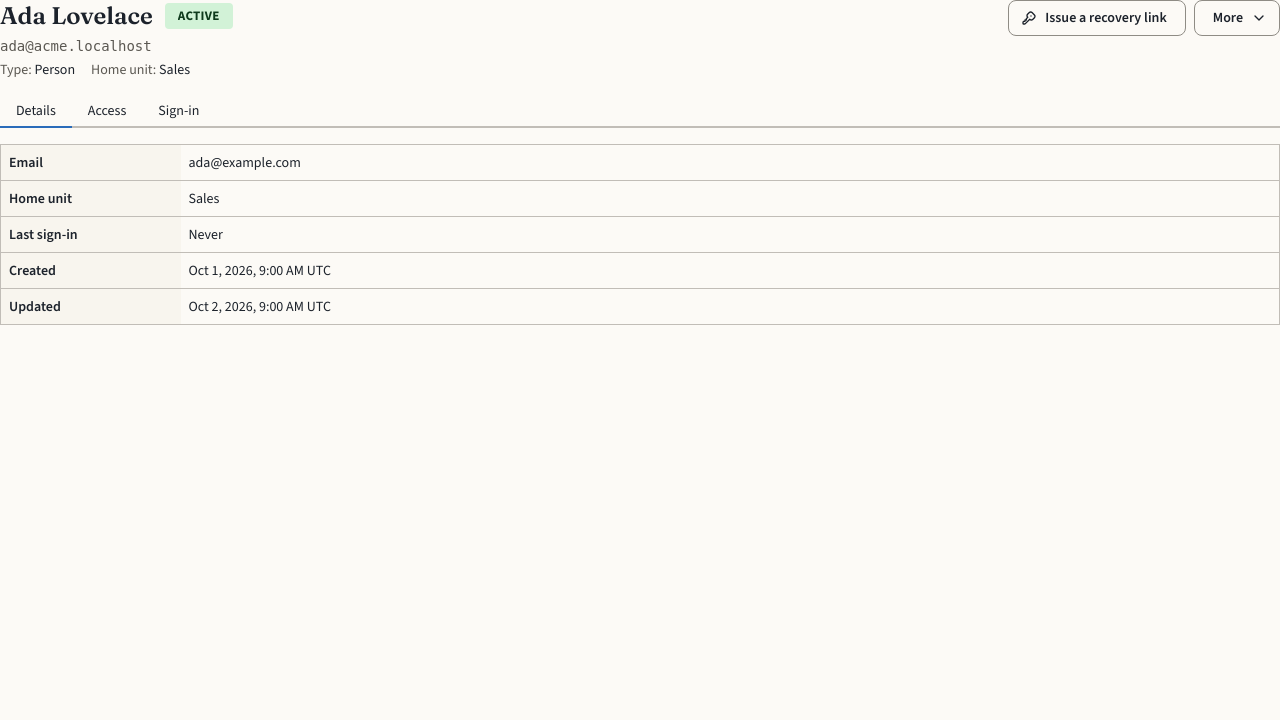
Test: signing in as someone, revoking, and the emergency mark on the user record › explains a refusal of the emergency mark with its correlation id [ADR-0049]
The image size is (1280, 720).
Click the button with aria-label "More actions for Ada Lovelace": (1237, 18) [1194,0,1279,36]
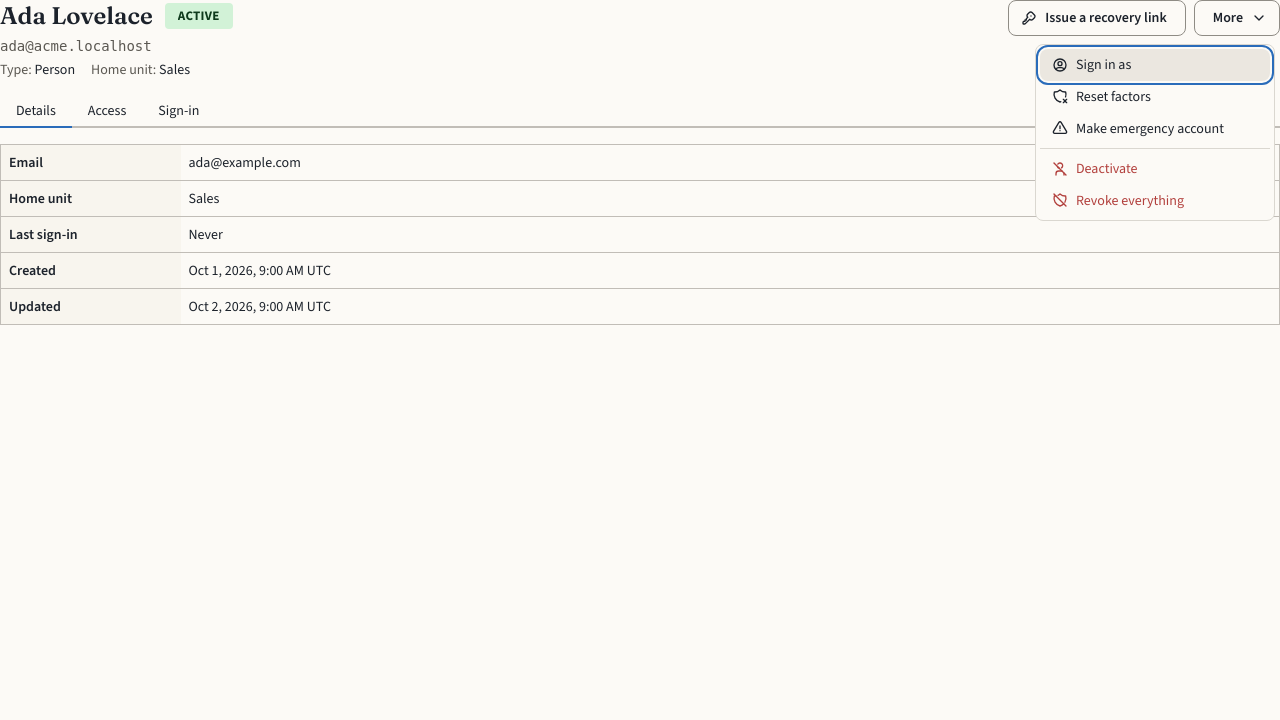
Click the menu item "Make emergency account": (1155, 128) [1040,112,1270,144]
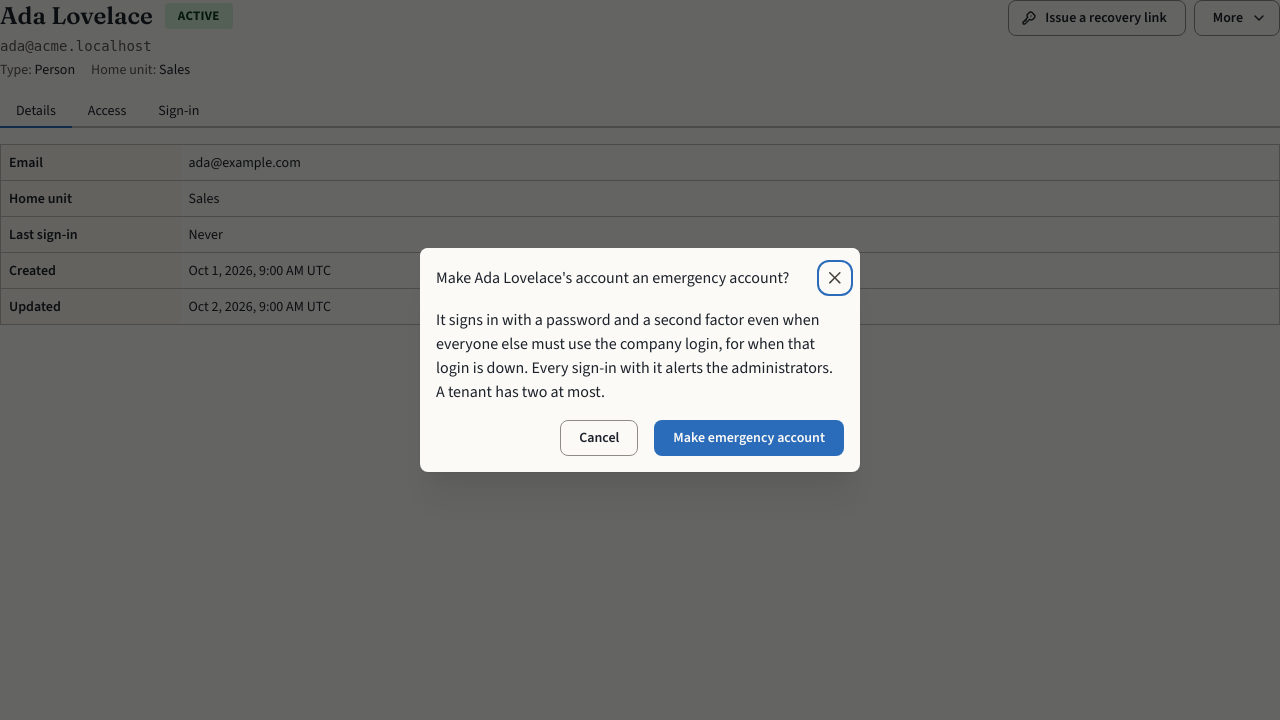
Click the button "Make emergency account": (749, 438) [654,420,844,456]
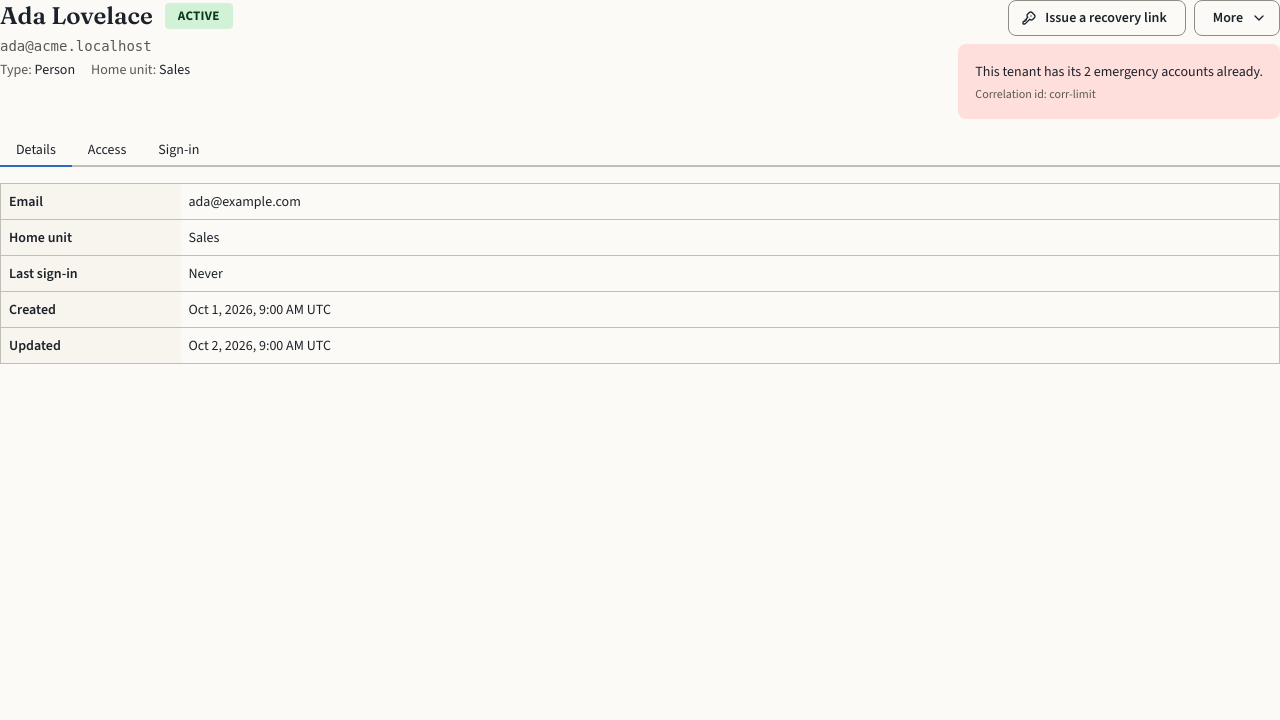
Expected: the message shows "This tenant has its 2 emergency accounts already.", [975,62,1263,81]
Expected: the message shows "corr-limit", [975,86,1096,102]
